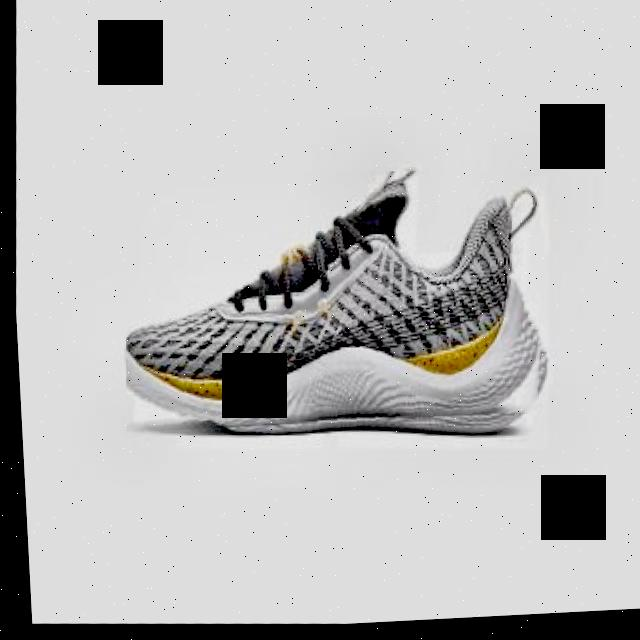shoe: (111, 155, 557, 457)
